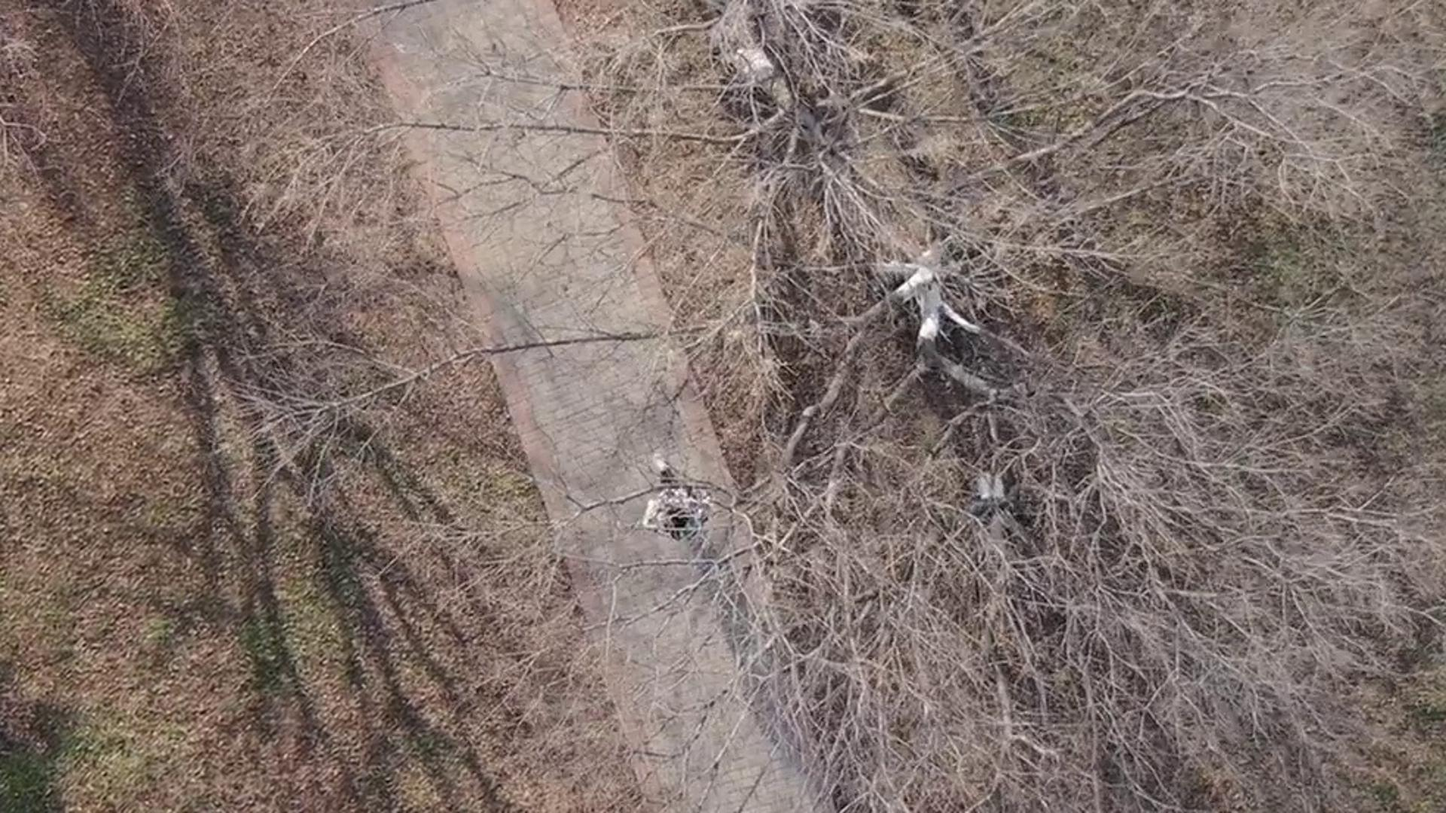human: (612, 458, 676, 550)
